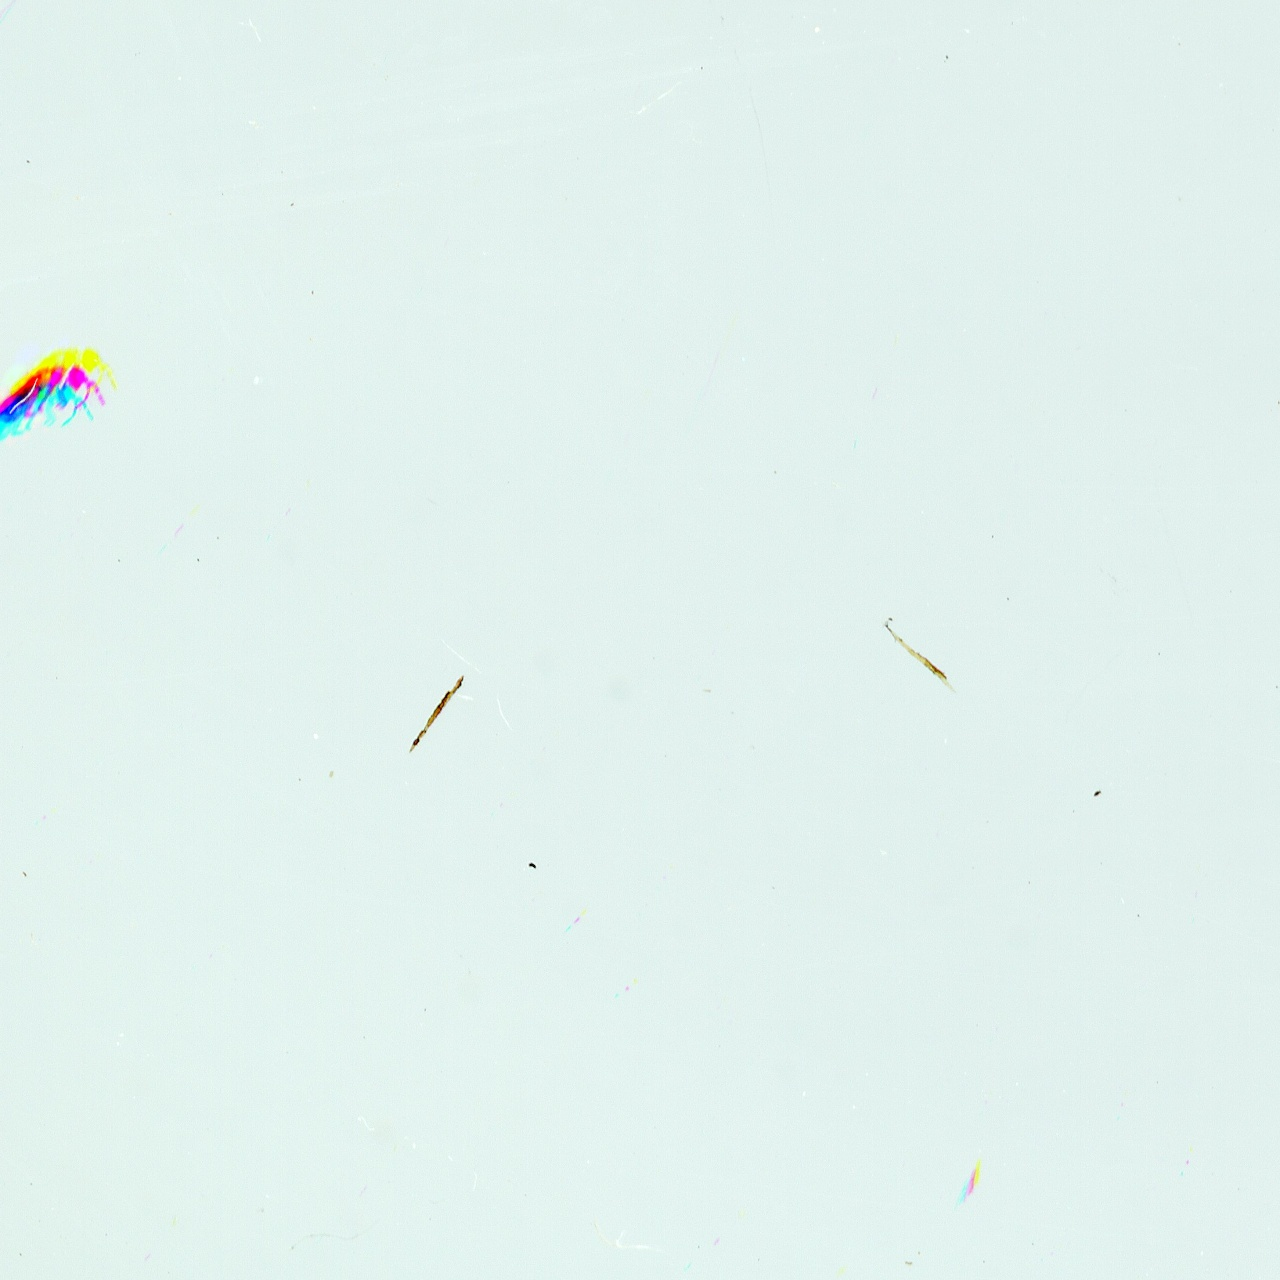arthropod: (0, 322, 134, 482)
